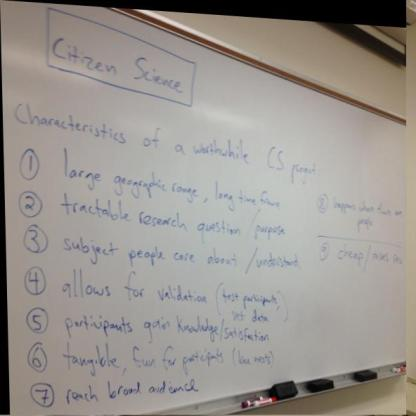Handwritten text: (3, 97, 323, 190), (49, 145, 291, 227), (52, 189, 292, 256), (50, 230, 306, 286), (41, 31, 194, 104), (57, 341, 228, 384), (59, 267, 213, 310), (60, 372, 212, 410), (56, 313, 220, 344), (331, 242, 406, 276), (328, 195, 406, 223), (220, 324, 278, 350), (218, 285, 280, 307), (225, 307, 272, 324), (350, 217, 381, 233)
Whiteboard: (0, 2, 406, 416)
